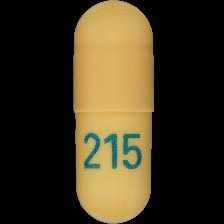55154-3581: (0, 0, 224, 224)
